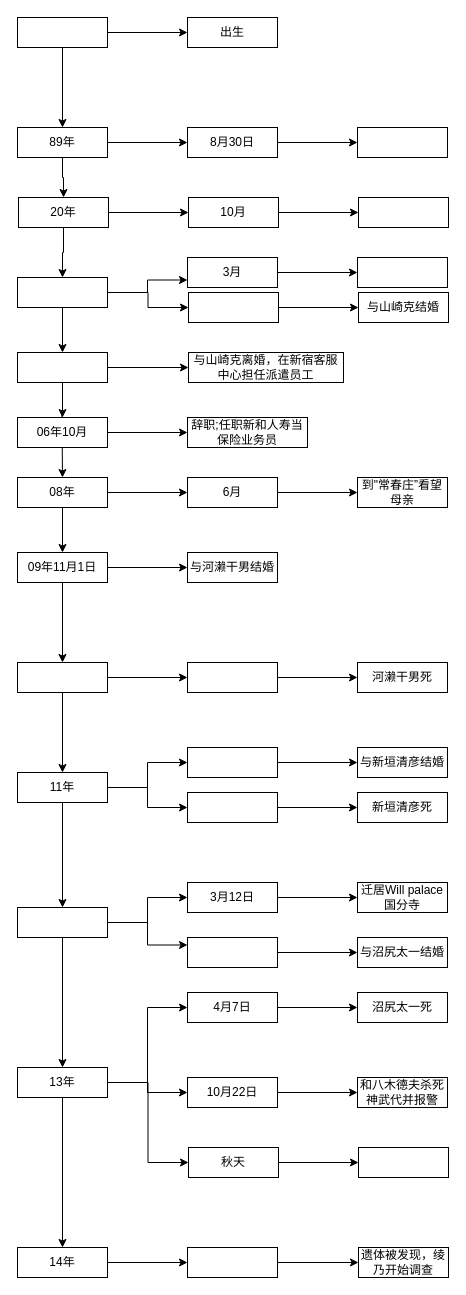
Some shapes in this 466 by 1295 pixel diagram are drawn without their labels. Here are the shapes that lost their labels. From the top down, the centre of each, then its label:
the point at 62,32: 73年10月21日
the point at 402,142: 弟弟自杀
the point at 403,212: 父亲失踪
the point at 62,292: 01年8月22日
the point at 402,272: 搬家开始独居
the point at 233,307: 8月22日
the point at 62,367: 04年6月27日
the point at 62,677: 10年
the point at 232,677: 7月24日
the point at 232,762: 2月10日
the point at 232,807: 12月10日
the point at 62,922: 12年
the point at 232,952: 7月1日
the point at 403,1162: 死于Will palace国分寺
the point at 232,1262: 3月4日
